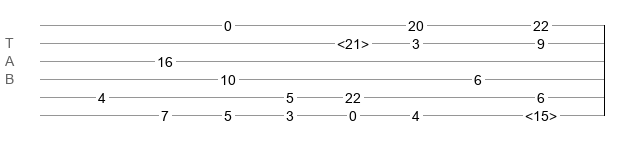0: (224, 18, 232, 28), (349, 108, 357, 118)
10: (220, 72, 236, 82)
16: (157, 54, 173, 64)
20: (408, 18, 424, 28)
22: (345, 90, 361, 100), (533, 18, 549, 28)
3: (286, 108, 294, 118), (412, 36, 420, 46)
4: (98, 90, 106, 100), (412, 108, 420, 118)
5: (224, 108, 232, 118), (286, 90, 294, 100)
6: (474, 72, 482, 82), (537, 90, 545, 100)
7: (161, 108, 169, 118)
9: (537, 36, 545, 46)
harmonic: (337, 36, 369, 46), (525, 108, 557, 118)
